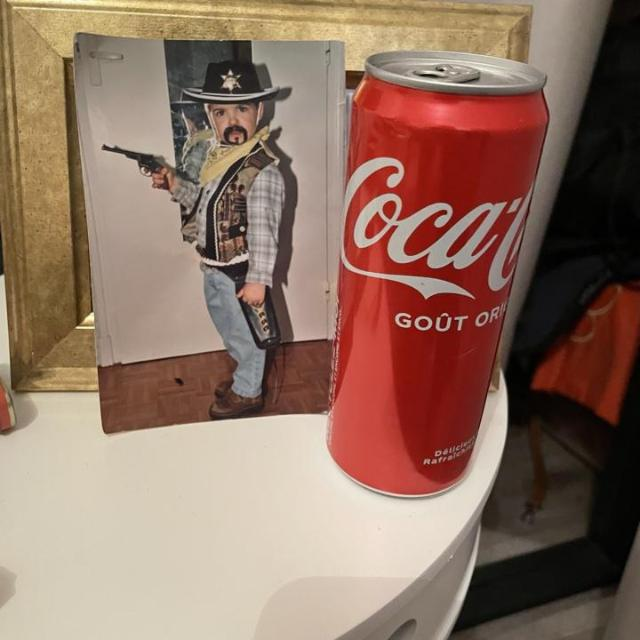can: (325, 31, 557, 512)
